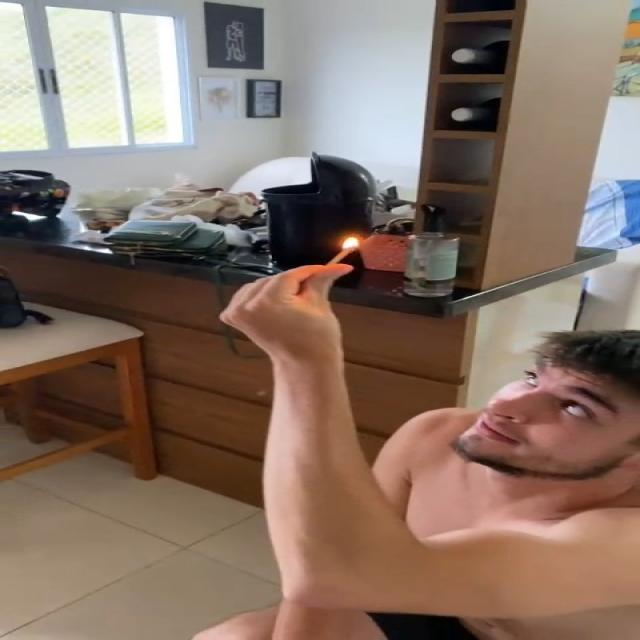fogo-ypXI: (342, 236, 360, 251)
